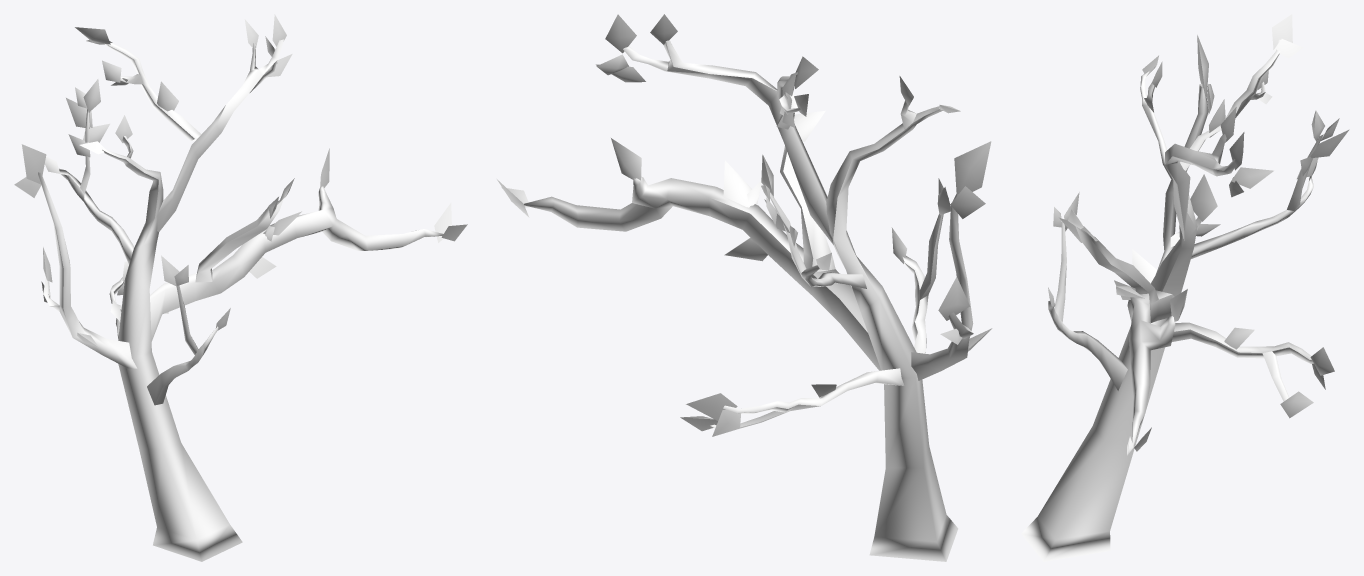
Rendered from Prop_BlueSwing.glb.
The picture shows the model from 3 angles, left to right: view 1: azimuth 30°, elevation 25°; view 2: azimuth 150°, elevation 25°; view 3: azimuth 270°, elevation 25°; orthographic projection. The views are drawn at different scales.
Visible parts, largest first — view 1: Prop_BlueSwing; view 2: Prop_BlueSwing; view 3: Prop_BlueSwing.
Boxes of the visible parts, x1,y1,x2,y2 form: Prop_BlueSwing: (14,14,467,561); Prop_BlueSwing: (497,14,992,561); Prop_BlueSwing: (1021,14,1349,561).
Size of the model in its own units: 43.92 by 45.23 by 26.19.
1 material, 1 textured.
